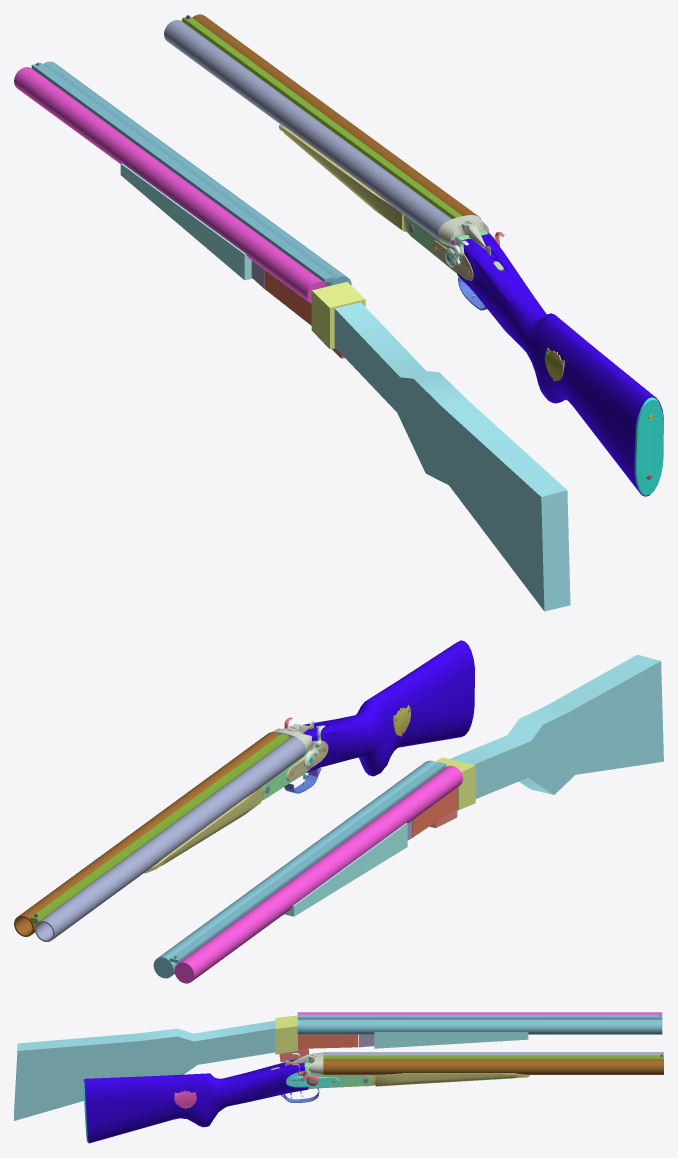
The picture shows the model from 3 angles, top to bottom: view 1: azimuth 30°, elevation 25°; view 2: azimuth 150°, elevation 25°; view 3: azimuth 270°, elevation 25°; orthographic projection. The views are drawn at different scales.
Visible parts, largest first — view 1: Object_26.076, split_parent_5, Object_26.026, Object_4.003, Object_26, Object_4, Object_6.042, Object_26.052, Object_34, split_parent_34, split_parent_1, split_parent_3 (+1 smaller); view 2: Object_26.076, split_parent_5, Object_26.026, Object_4.003, Object_26, Object_4, Object_6.042, Object_26.052, split_parent_1, split_parent_34, Object_26.064, Object_20.001; view 3: Object_26.076, split_parent_5, Object_26, Object_4, Object_26.052, Object_6.042, split_parent_1, Object_4.003, Object_26.026, Object_26.064, split_parent_34, split_parent_4 (+4 smaller).
Part boxes in pixels (x1=…): Object_26.076: x1=334, y1=302, x2=570, y2=611; split_parent_5: x1=457, y1=233, x2=663, y2=496; Object_26.026: x1=14, y1=67, x2=327, y2=303; Object_4.003: x1=164, y1=20, x2=451, y2=240; Object_26: x1=31, y1=61, x2=351, y2=286; Object_4: x1=192, y1=14, x2=480, y2=218; Object_6.042: x1=181, y1=16, x2=462, y2=218; Object_26.052: x1=120, y1=163, x2=252, y2=280; Object_34: x1=634, y1=397, x2=663, y2=495; split_parent_34: x1=311, y1=282, x2=365, y2=349; split_parent_1: x1=278, y1=124, x2=405, y2=231; split_parent_3: x1=438, y1=215, x2=490, y2=255; Object_26.076: x1=450, y1=654, x2=663, y2=798; split_parent_5: x1=303, y1=640, x2=474, y2=776; Object_26.026: x1=174, y1=765, x2=462, y2=983; Object_4.003: x1=35, y1=737, x2=305, y2=941; Object_26: x1=153, y1=760, x2=446, y2=978; Object_4: x1=14, y1=732, x2=279, y2=936; Object_6.042: x1=30, y1=734, x2=288, y2=924; Object_26.052: x1=284, y1=823, x2=407, y2=916; split_parent_1: x1=144, y1=787, x2=261, y2=873; split_parent_34: x1=434, y1=757, x2=475, y2=810; Object_26.064: x1=412, y1=787, x2=457, y2=837; Object_20.001: x1=286, y1=740, x2=328, y2=781; Object_26.076: x1=14, y1=1020, x2=275, y2=1120; split_parent_5: x1=84, y1=1058, x2=308, y2=1143; Object_26: x1=297, y1=1014, x2=662, y2=1034; Object_4: x1=323, y1=1059, x2=663, y2=1074; Object_26.052: x1=374, y1=1032, x2=528, y2=1048; Object_6.042: x1=323, y1=1055, x2=663, y2=1059; split_parent_1: x1=375, y1=1073, x2=529, y2=1086; Object_4.003: x1=323, y1=1052, x2=663, y2=1058; Object_26.026: x1=297, y1=1012, x2=662, y2=1018; Object_26.064: x1=298, y1=1034, x2=358, y2=1048; split_parent_34: x1=275, y1=1015, x2=297, y2=1054; split_parent_4: x1=304, y1=1062, x2=371, y2=1088.
Size of the model in its own units: 0.2181 by 0.1841 by 1.
